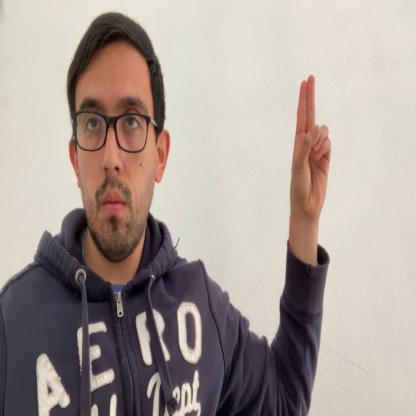U: (289, 74, 332, 218)
